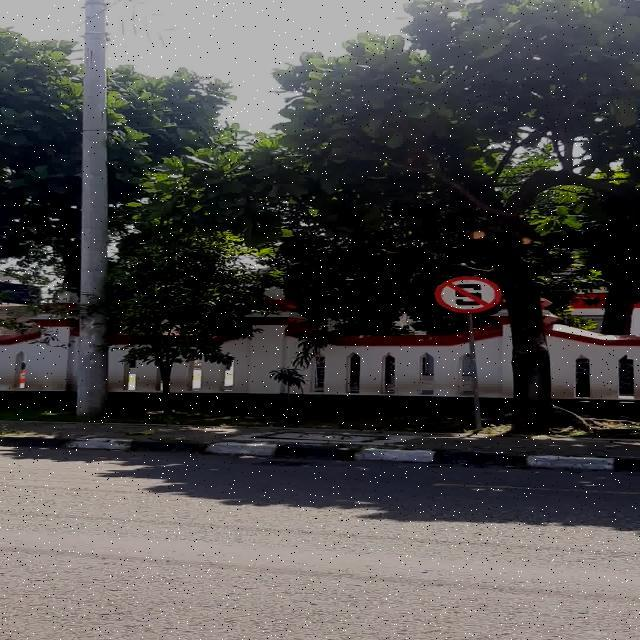Dilarang Berhenti: (434, 276, 502, 314)
